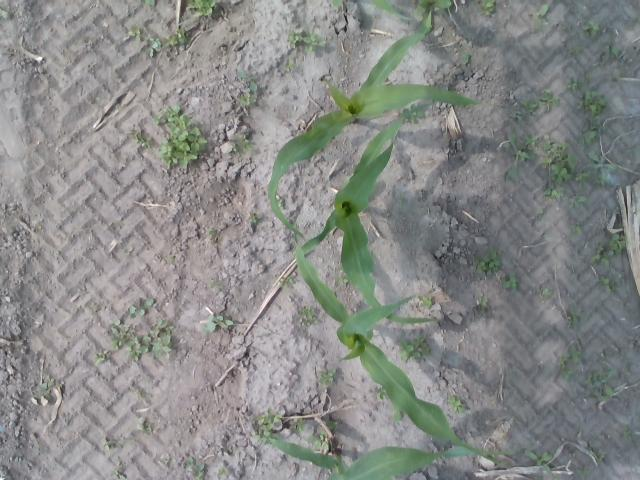Maize: (294, 224, 506, 468), (269, 12, 492, 240), (297, 108, 440, 324), (266, 436, 516, 480), (332, 0, 414, 21)
Weeds: (152, 104, 206, 172), (541, 134, 576, 202), (577, 88, 609, 146), (504, 130, 538, 180), (584, 147, 618, 186), (520, 86, 562, 117), (144, 317, 174, 358), (252, 407, 282, 444), (286, 26, 326, 52), (473, 248, 502, 279), (400, 332, 430, 360), (559, 344, 581, 380), (108, 317, 130, 350), (524, 449, 553, 474), (584, 369, 616, 389), (588, 241, 610, 268), (602, 44, 626, 68), (124, 338, 148, 362), (128, 298, 155, 318), (203, 314, 233, 332), (414, 0, 452, 14), (532, 2, 551, 30), (230, 131, 253, 154), (187, 0, 218, 17), (126, 129, 152, 149), (236, 69, 258, 92), (399, 102, 423, 123), (598, 273, 622, 294), (566, 73, 592, 91), (187, 456, 206, 480), (298, 305, 318, 327), (308, 431, 330, 450), (592, 384, 614, 403), (144, 34, 162, 57), (609, 232, 626, 256), (581, 18, 600, 39), (501, 270, 519, 292), (537, 283, 556, 302), (168, 28, 188, 46), (36, 375, 56, 393), (317, 368, 337, 386), (586, 442, 604, 462), (568, 306, 586, 325), (568, 192, 586, 210), (448, 396, 466, 414), (125, 23, 142, 42), (292, 415, 308, 435), (238, 92, 258, 106), (478, 0, 496, 15), (576, 465, 594, 480), (376, 384, 390, 403), (475, 294, 489, 312), (391, 404, 404, 423), (622, 425, 635, 444), (418, 293, 432, 308), (280, 275, 296, 288), (100, 437, 112, 453), (576, 170, 590, 183), (511, 108, 524, 122), (284, 56, 296, 70), (136, 418, 148, 432), (111, 469, 126, 480), (334, 276, 350, 286), (570, 223, 584, 234), (250, 214, 264, 225), (462, 50, 472, 65), (325, 419, 338, 430), (216, 468, 228, 479), (569, 46, 583, 55), (94, 354, 106, 364), (0, 7, 10, 18), (143, 0, 156, 7), (614, 74, 624, 83), (536, 207, 546, 216), (276, 198, 284, 209), (206, 228, 216, 236), (214, 282, 222, 292), (635, 43, 640, 53), (617, 222, 624, 228), (162, 458, 169, 464), (168, 255, 175, 260), (400, 196, 406, 201)
